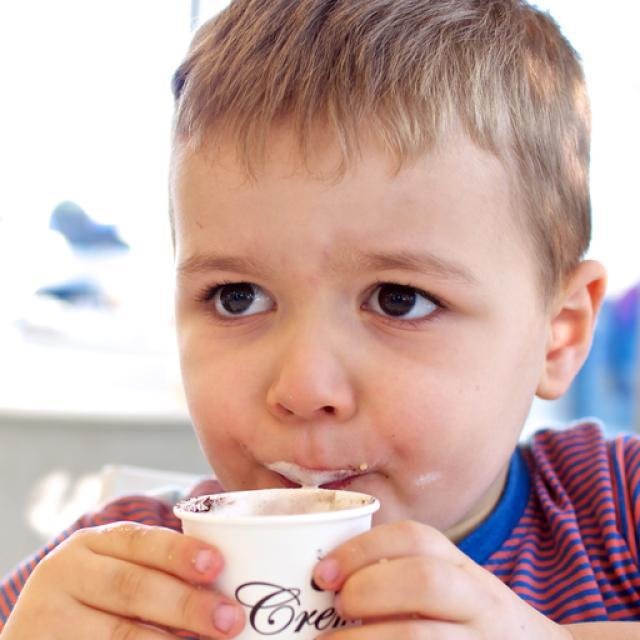neutral: (172, 88, 542, 552)
